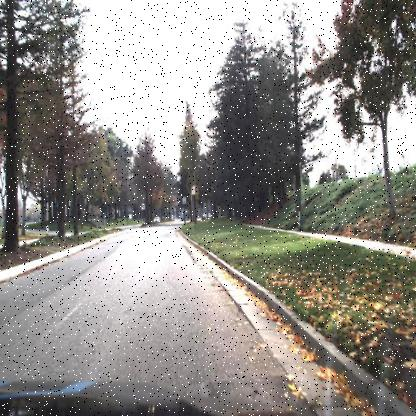car: (153, 216, 161, 223)
